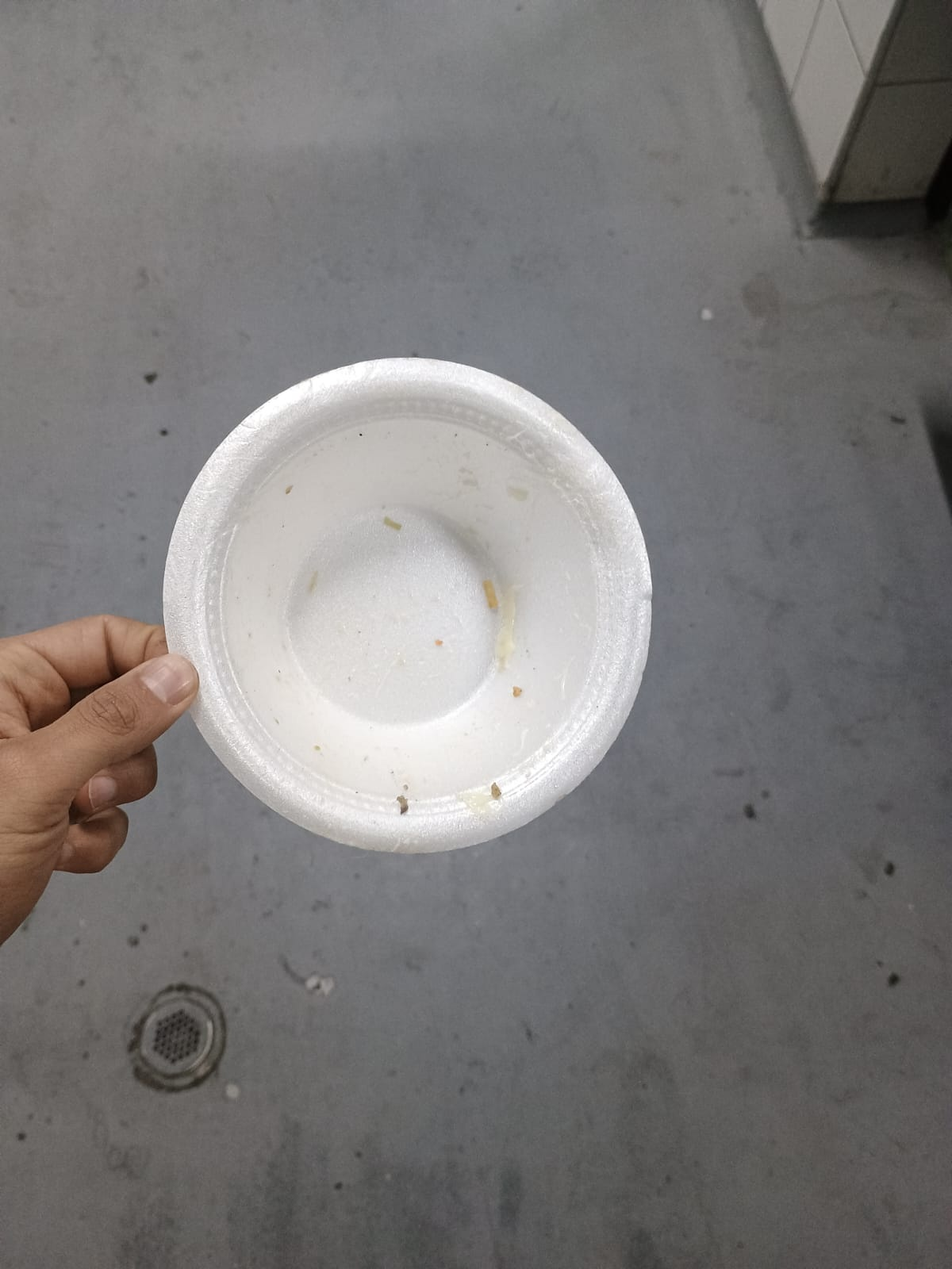Ordinario: (159, 354, 653, 851)
